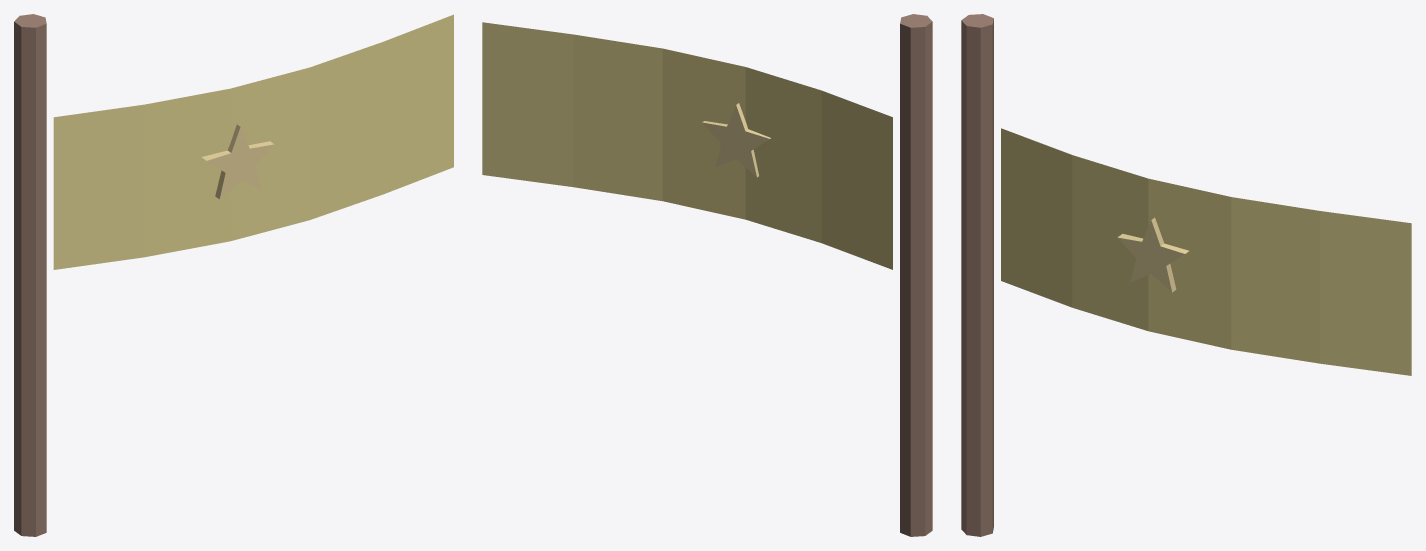
The model's file is bandera_amarilla.glb.
3 renders of one model, left to right at view 1: azimuth 30°, elevation 25°; view 2: azimuth 150°, elevation 25°; view 3: azimuth 330°, elevation 25°, orthographic.
Visible parts, largest first — view 1: bandera_amarilla; view 2: bandera_amarilla; view 3: bandera_amarilla.
Boxes of the visible parts, left/top/right/bottom form: bandera_amarilla: left=14, top=14, right=453, bottom=536; bandera_amarilla: left=482, top=14, right=932, bottom=536; bandera_amarilla: left=961, top=14, right=1411, bottom=536.
Size of the model in its own units: 1.36 by 1.5 by 0.1414.
